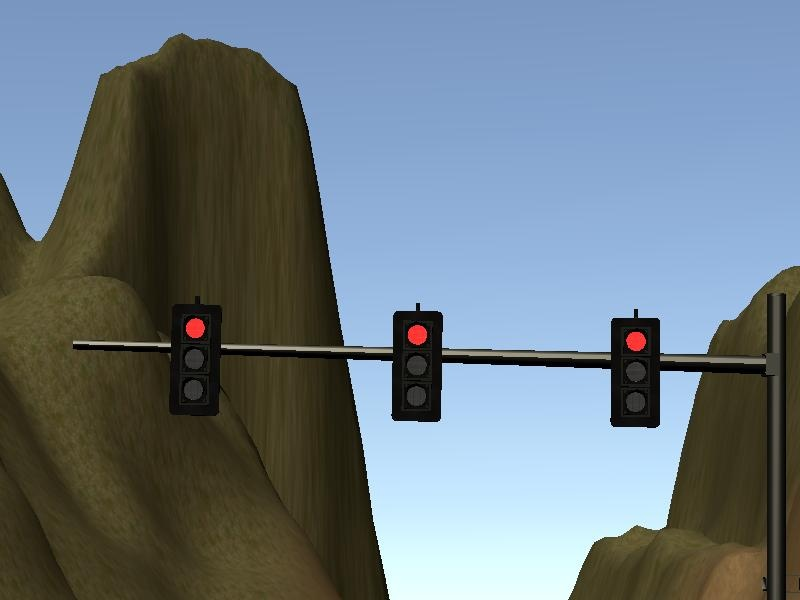red: (385, 295, 448, 429), (600, 305, 666, 432), (168, 293, 224, 422)
